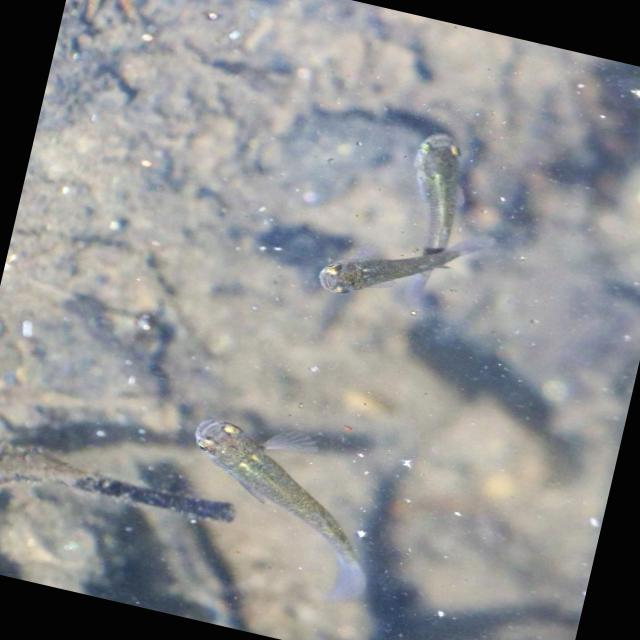Sivrisinek Baligi: (148, 380, 420, 616), (298, 192, 502, 332), (376, 108, 486, 320)
